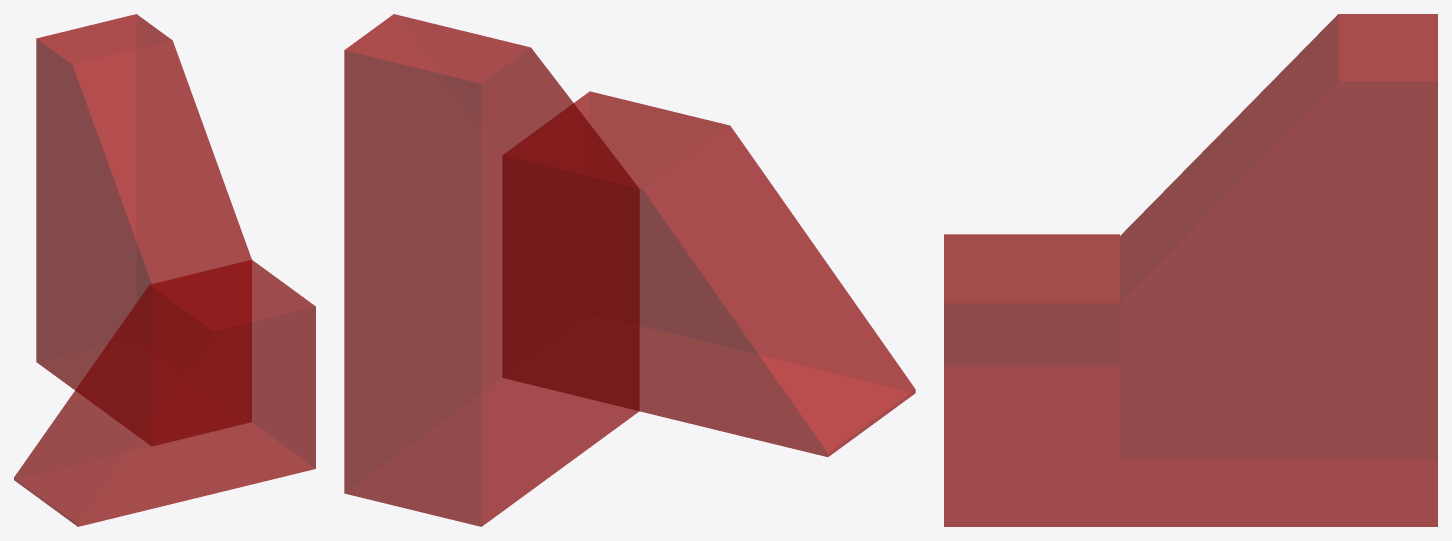
The model's file is SM_Bld_Stairs_Corner_01_Collision.fbx.
3 views of the same model, side by side, from view 1: azimuth 30°, elevation 25°; view 2: azimuth 150°, elevation 25°; view 3: azimuth 270°, elevation 25° (orthographic). The views are drawn at different scales.
Visible parts, largest first — view 1: SM_Bld_Stairs_Corner_01_Collision; view 2: SM_Bld_Stairs_Corner_01_Collision; view 3: SM_Bld_Stairs_Corner_01_Collision.
Part boxes in pixels (x1,y1,x2,y2): SM_Bld_Stairs_Corner_01_Collision: [14, 14, 315, 526]; SM_Bld_Stairs_Corner_01_Collision: [344, 14, 915, 526]; SM_Bld_Stairs_Corner_01_Collision: [944, 14, 1437, 526].
Bounding box in the file's own units: 383 × 498 × 500.
